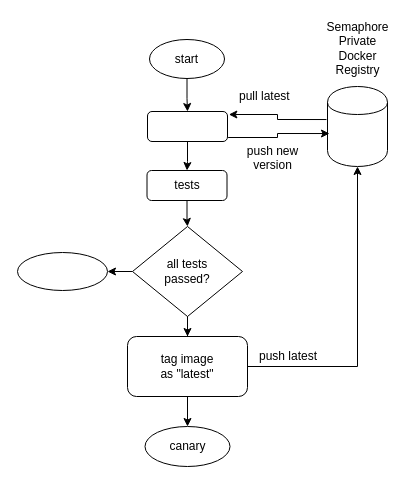
Image size: 420x484. Some labels were removed from this diagram. Each missing label, with the centre of its shape:
build: (x=187, y=126)
stop: (x=62, y=271)
